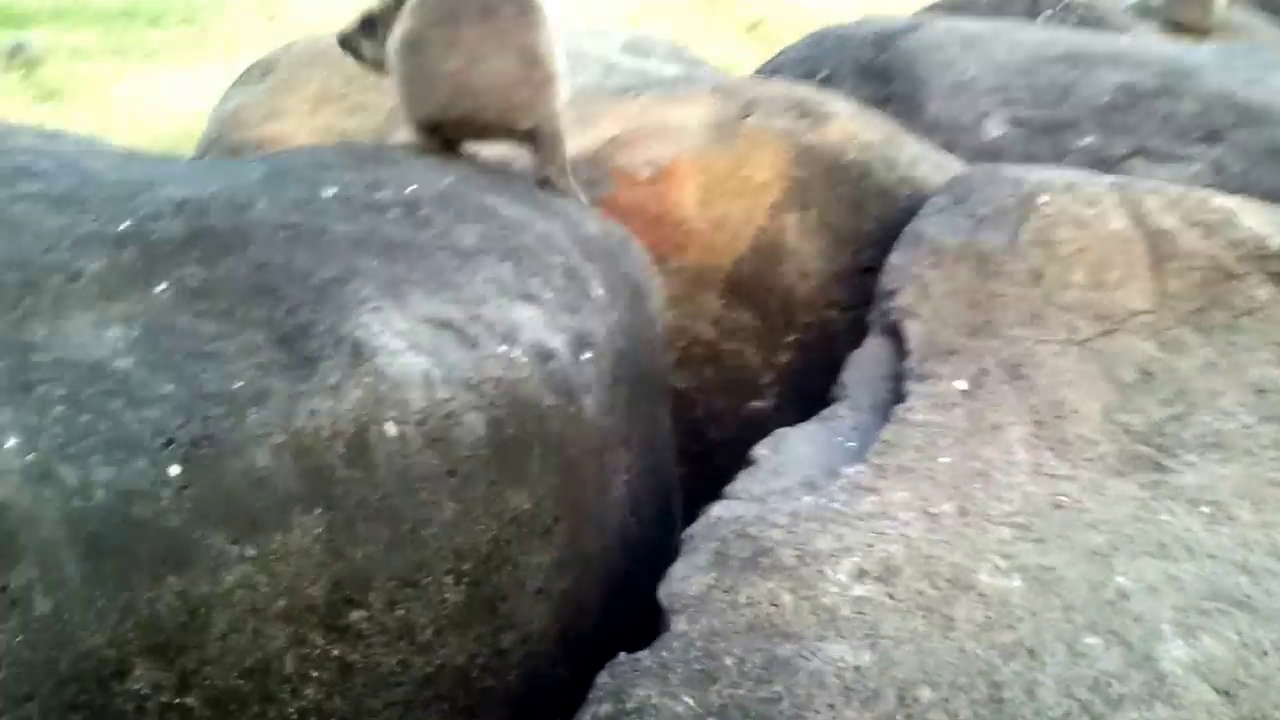Rock Hyrex: (338, 1, 594, 205)
